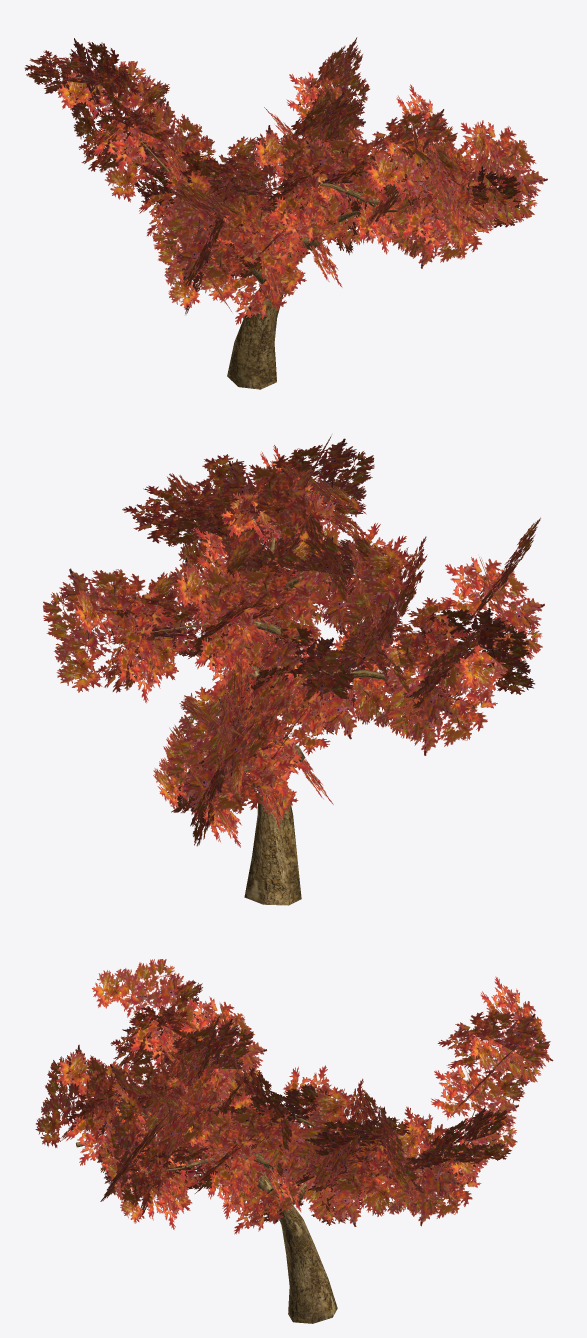
File: Tree14.FBX
The picture shows the model from 3 angles, top to bottom: view 1: azimuth 30°, elevation 25°; view 2: azimuth 150°, elevation 25°; view 3: azimuth 270°, elevation 25°; orthographic projection. The views are drawn at different scales.
Parts seen in each view (by area): view 1: Plane88, Plane125, Plane75, Plane99, Cylinder10, Plane114, Plane111, Plane76, Plane113, Plane72, Plane82, Plane123 (+33 smaller); view 2: Plane109, Plane116, Plane74, Plane87, Plane105, Plane84, Cylinder10, Plane123, Plane77, Plane102, Plane86, Plane121 (+36 smaller); view 3: Plane89, Plane107, Plane76, Cylinder10, Plane73, Plane100, Plane121, Plane94, Plane124, Plane77, Plane69, Plane70 (+28 smaller).
Boxes of the visible parts, box(x1,y1,x2,y2) form: Plane88: box(163, 171, 271, 281); Plane125: box(366, 144, 474, 257); Plane75: box(57, 61, 166, 174); Plane99: box(450, 122, 547, 238); Cylinder10: box(227, 210, 440, 389); Plane114: box(231, 125, 325, 231); Plane111: box(292, 135, 390, 244); Plane76: box(61, 38, 139, 145); Plane113: box(253, 132, 343, 246); Plane72: box(105, 101, 213, 202); Plane82: box(198, 198, 308, 301); Plane123: box(356, 109, 457, 193); Plane109: box(43, 568, 176, 692); Plane116: box(342, 543, 469, 672); Plane74: box(166, 686, 292, 813); Plane87: box(440, 557, 544, 691); Plane105: box(139, 557, 264, 680); Plane84: box(382, 632, 497, 755); Cylinder10: box(244, 569, 301, 905); Plane123: box(208, 461, 324, 568); Plane77: box(205, 671, 296, 776); Plane102: box(199, 565, 331, 680); Plane86: box(416, 608, 534, 694); Plane121: box(264, 438, 374, 524); Plane89: box(92, 959, 197, 1068); Plane107: box(294, 1086, 408, 1196); Plane76: box(437, 1009, 550, 1105); Cylinder10: box(76, 1136, 337, 1323); Plane73: box(431, 1064, 518, 1180); Plane100: box(97, 1093, 174, 1206); Plane121: box(35, 1044, 120, 1147); Plane94: box(156, 1104, 264, 1212); Plane124: box(142, 1066, 227, 1158); Plane77: box(469, 976, 553, 1082); Plane69: box(366, 1106, 460, 1216); Plane70: box(392, 1119, 485, 1226).
Size of the model in its own units: 394 by 303 by 479.
2 materials, 2 textured.
